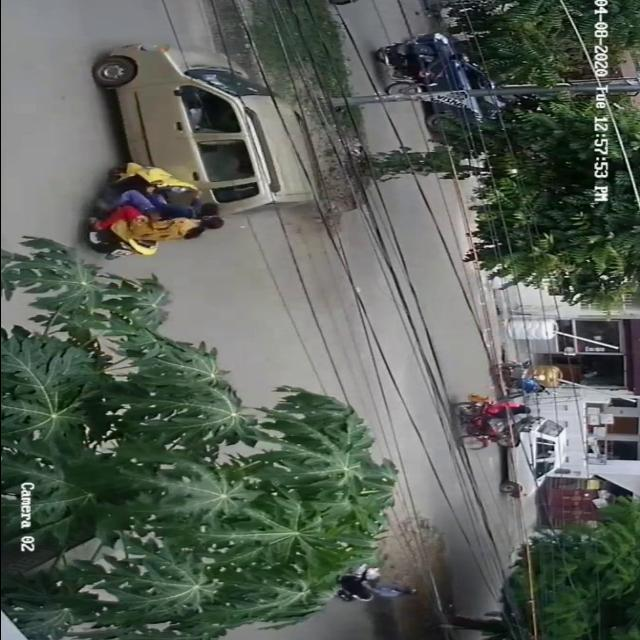accident: (61, 38, 318, 270)
